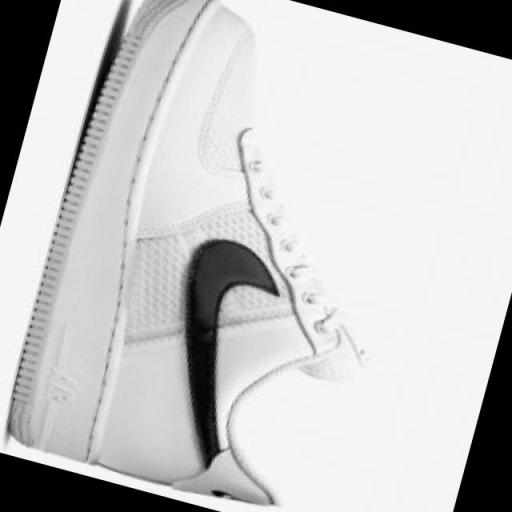Nike: (131, 228, 294, 479)
